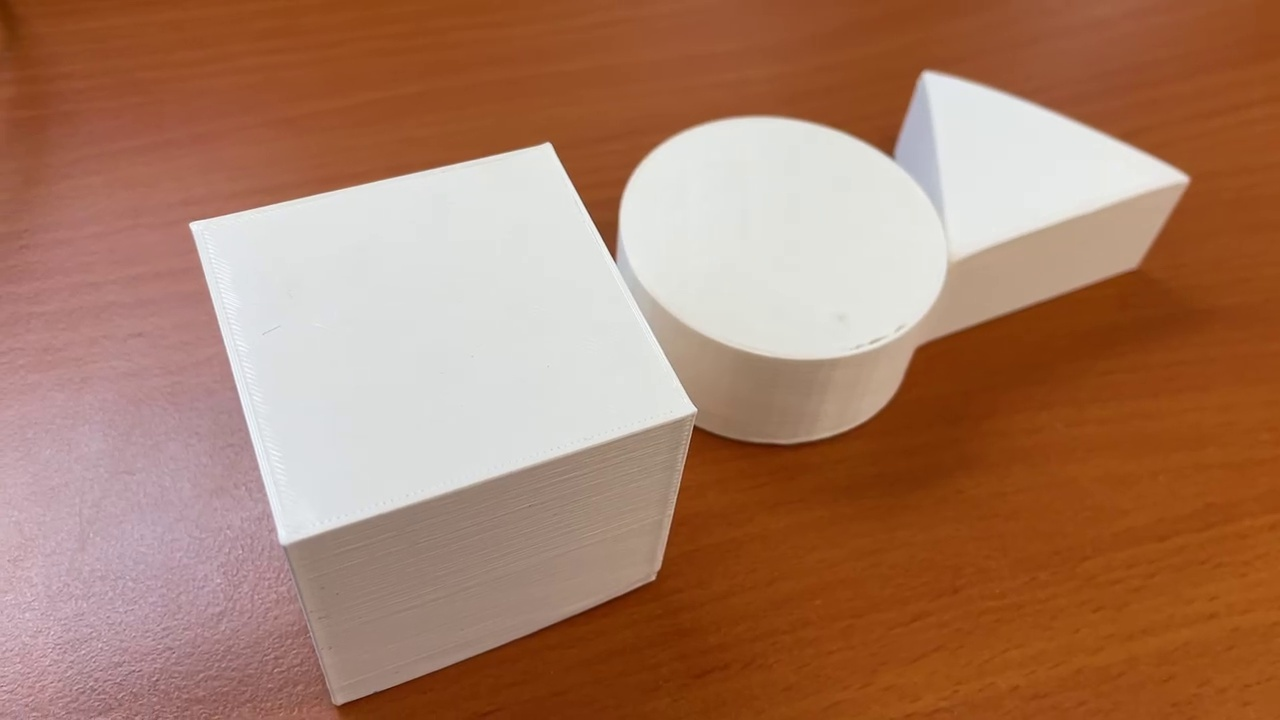Cube: (190, 140, 697, 705)
Cylinder_short: (604, 113, 948, 452)
Triangle_short: (893, 66, 1190, 340)
